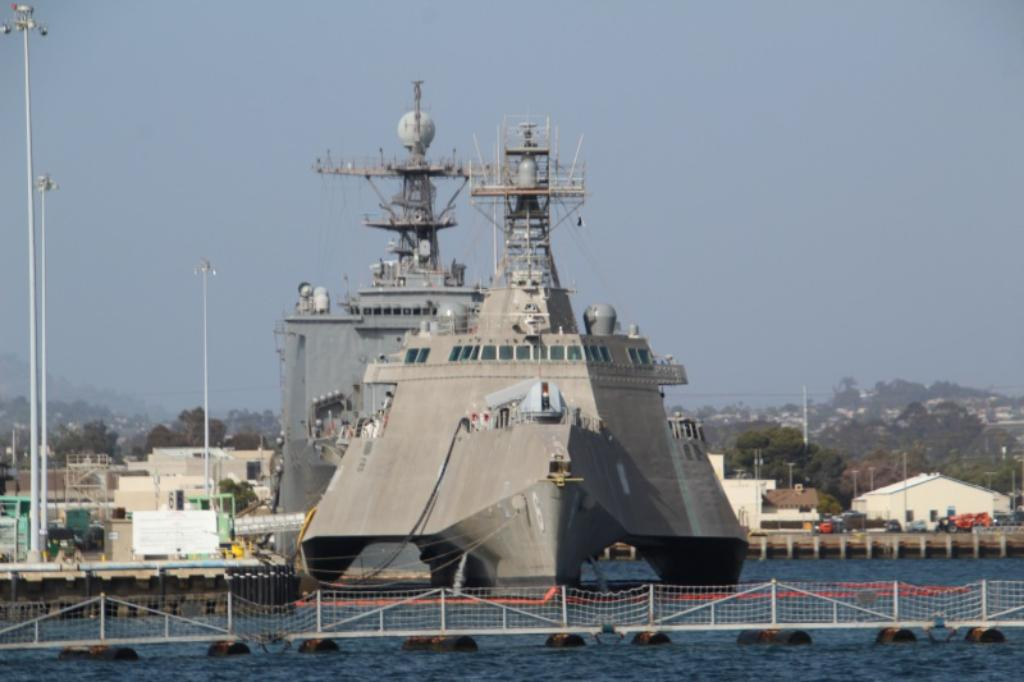Warship: (282, 108, 754, 608)
